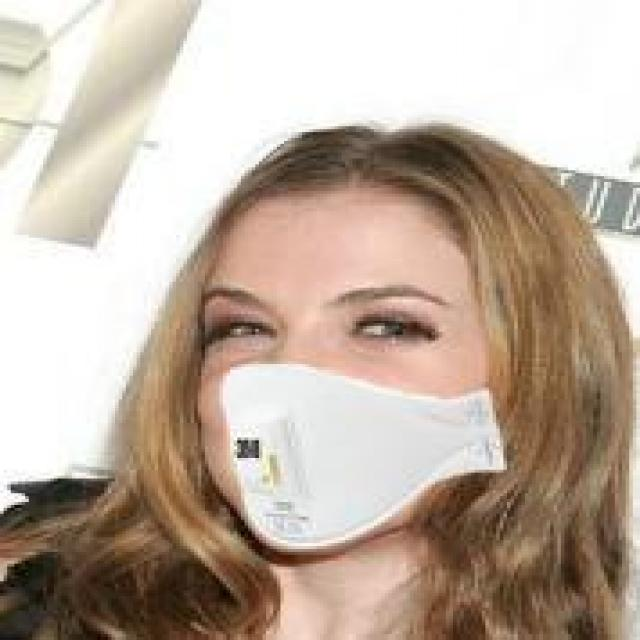mask: (118, 82, 590, 567)
